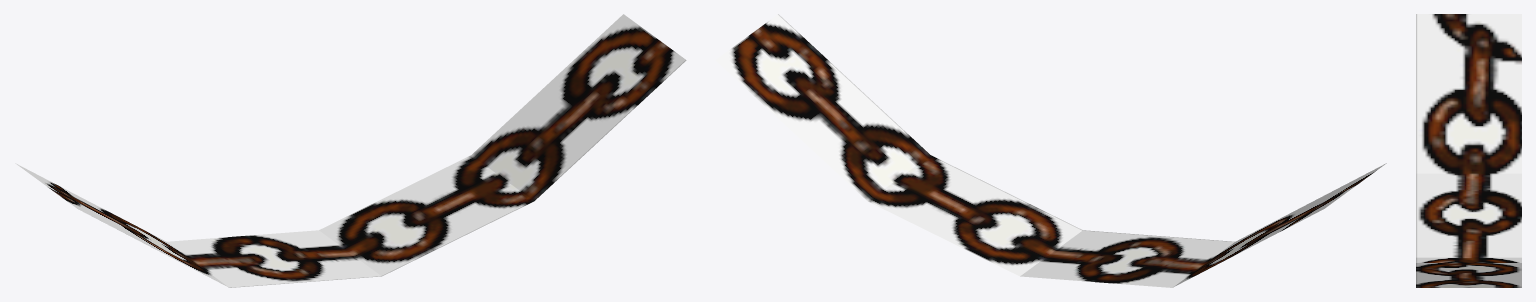
Rendered from Kette1_1812.glb.
The picture shows the model from 3 angles, left to right: view 1: azimuth 30°, elevation 25°; view 2: azimuth 150°, elevation 25°; view 3: azimuth 270°, elevation 25°; orthographic projection. The views are drawn at different scales.
Visible parts, largest first — view 1: pPlaneShape6; view 2: pPlaneShape6; view 3: pPlaneShape6.
Part boxes in pixels (bbox=[...]): pPlaneShape6: bbox=[15, 14, 686, 287]; pPlaneShape6: bbox=[715, 14, 1386, 287]; pPlaneShape6: bbox=[1416, 14, 1521, 287].
Size of the model in its own units: 0.25 by 0.0557 by 0.0449.
1 material, 1 textured.
